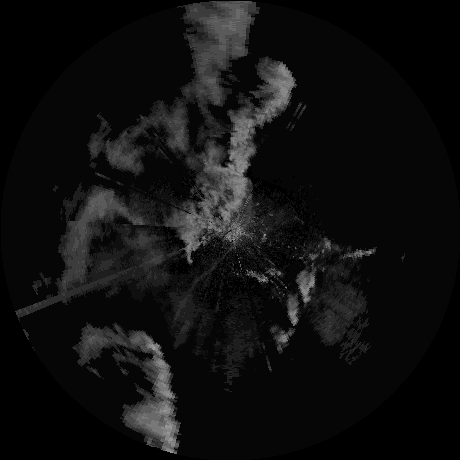frontgust: (202, 183, 254, 278)
